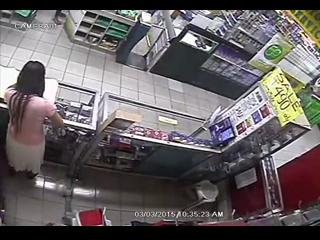Normal: (4, 60, 65, 179)
